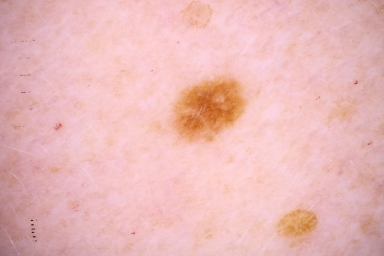nevus: (173, 80, 248, 143)
